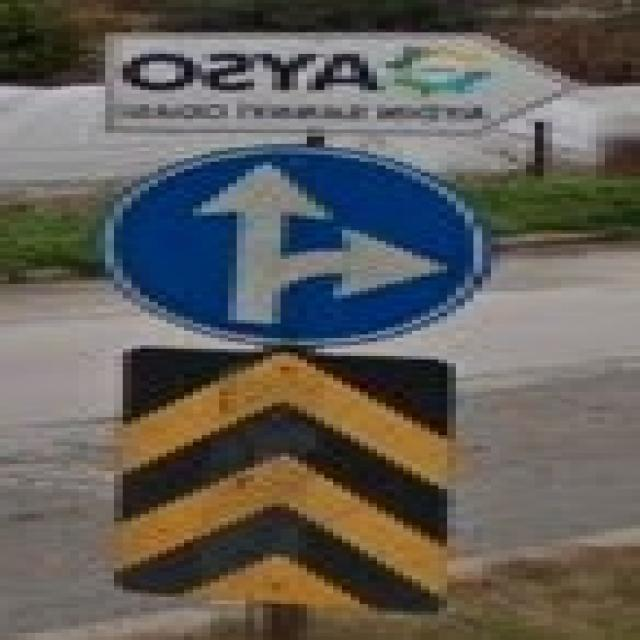Straight or Right: (115, 152, 466, 339)
